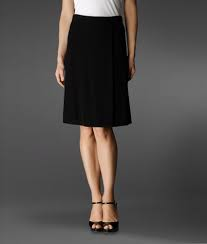S_skirt: (49, 14, 144, 136)
